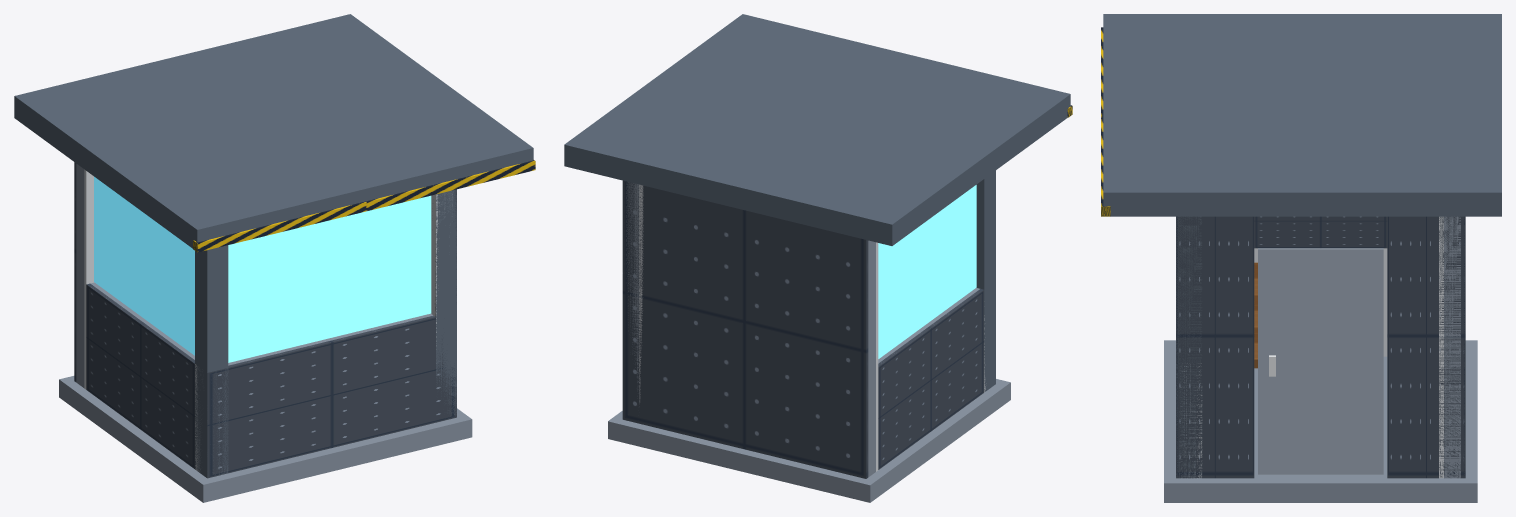
Rendered from checkpoint_booth_guard.glb.
3 views of the same model, side by side, from view 1: azimuth 30°, elevation 25°; view 2: azimuth 150°, elevation 25°; view 3: azimuth 270°, elevation 25° (orthographic). The views are drawn at different scales.
Parts seen in each view (by area): view 1: checkpoint_booth_guard; view 2: checkpoint_booth_guard; view 3: checkpoint_booth_guard, booth_door_pivot.
Part boxes in pixels (<box>): checkpoint_booth_guard: <box>14,14,535,502</box>; checkpoint_booth_guard: <box>564,14,1072,502</box>; checkpoint_booth_guard: <box>1101,14,1501,502</box>; booth_door_pivot: <box>1258,248,1383,474</box>.
Bounding box in the file's own units: 3.52 × 3 × 3.32.
10 materials, 4 textured.
